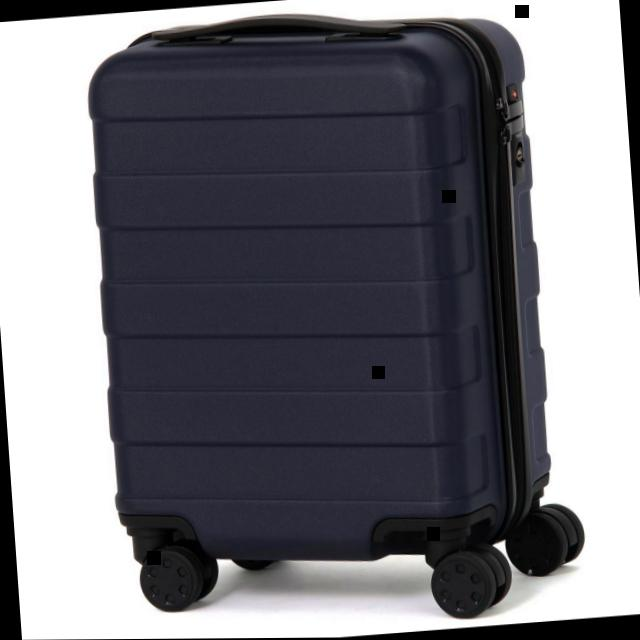luggage: (66, 0, 596, 640)
